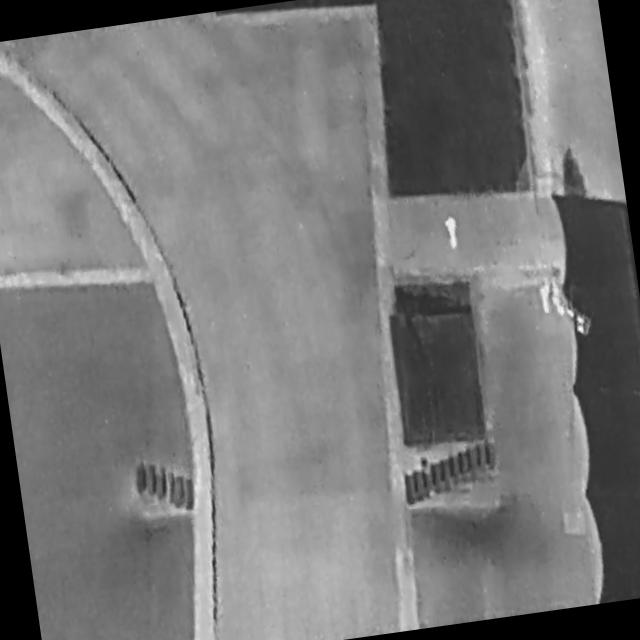person: (536, 280, 556, 319), (443, 214, 463, 252)
